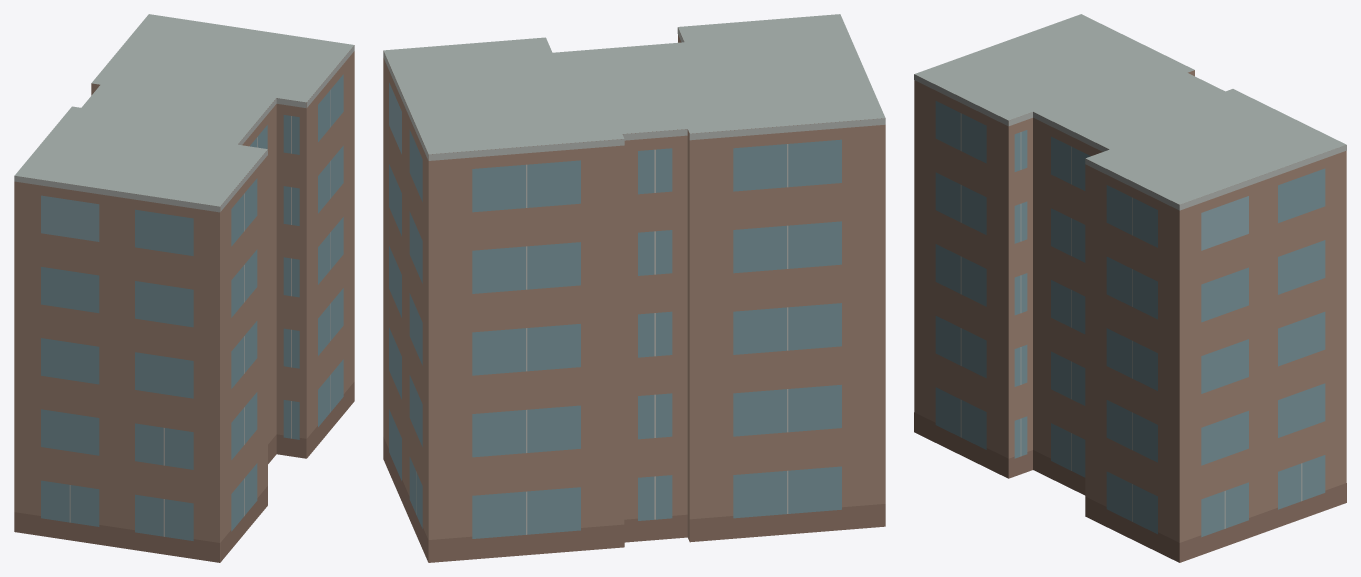
Rendered from survey-upis-32657130.glb.
3 renders of one model, left to right at view 1: azimuth 30°, elevation 25°; view 2: azimuth 150°, elevation 25°; view 3: azimuth 270°, elevation 25°, orthographic. The views are drawn at different scales.
Parts seen in each view (by area): view 1: survey-upis-32657130.tmp; view 2: survey-upis-32657130.tmp; view 3: survey-upis-32657130.tmp.
Boxes of the visible parts, x1,y1,x2,y2 form: survey-upis-32657130.tmp: [14, 14, 354, 562]; survey-upis-32657130.tmp: [383, 14, 885, 562]; survey-upis-32657130.tmp: [914, 14, 1346, 562].
Size of the model in its own units: 17.15 by 15 by 16.43.
